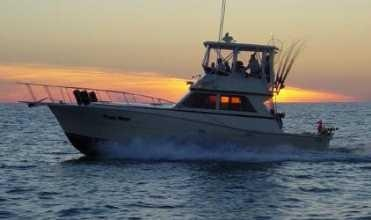otherboat: (37, 23, 363, 162)
